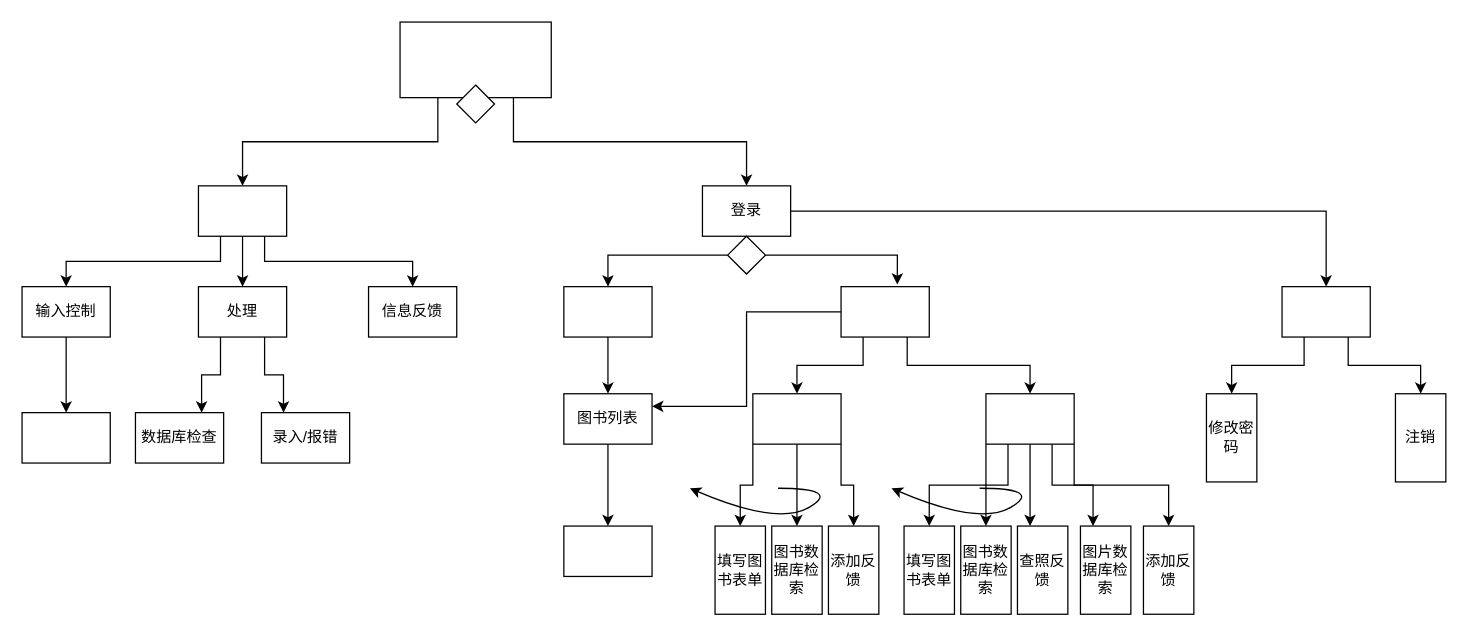
This 1468x636 diagram has some shape labels left out. The shapes that lost their labels are listed below. From the top down, each one's centre as x and y in pixels, then its label:
At point (475, 59): "图书管理系统".
At point (242, 210): "注册".
At point (607, 311): "用户".
At point (884, 311): "管理员".
At point (1325, 311): "账号安全".
At point (65, 437): "合法检查".
At point (796, 418): "添加图书".
At point (1029, 418): "添加图片".
At point (607, 550): "详情".
